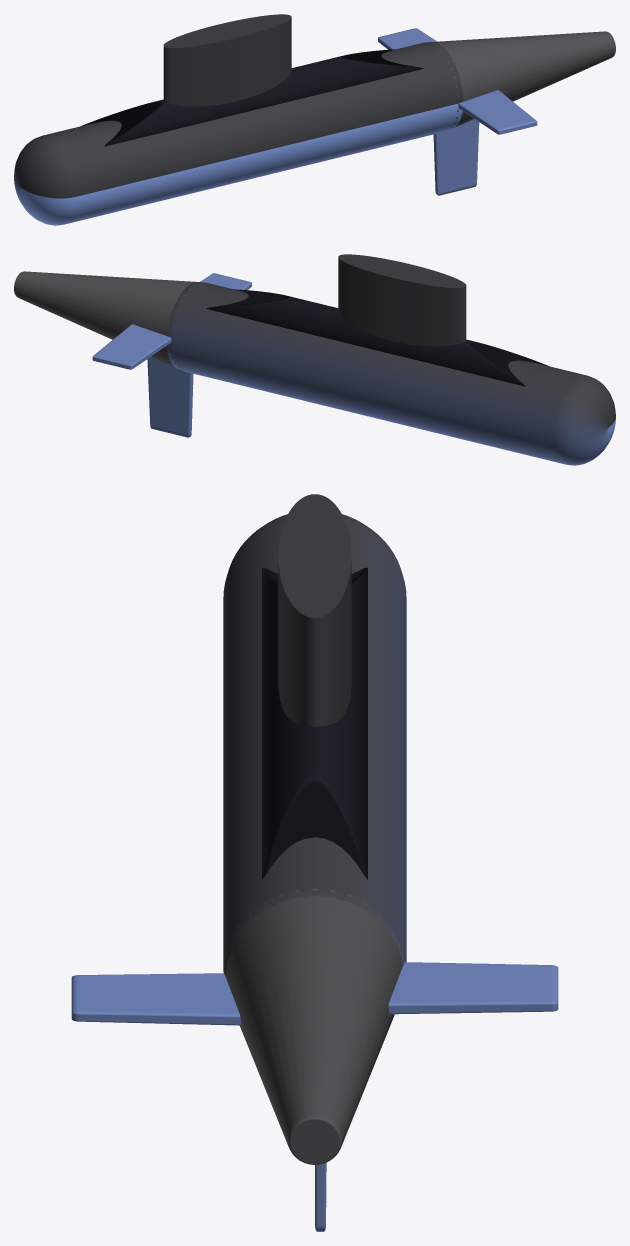
File: Submarine.gltf
3 renders of one model, top to bottom at view 1: azimuth 30°, elevation 25°; view 2: azimuth 150°, elevation 25°; view 3: azimuth 270°, elevation 25°, orthographic. The views are drawn at different scales.
Parts seen in each view (by area): view 1: Cylinder (×2), Cylinder 2, Cylinder 1, Box 1 (×3); view 2: Cylinder (×2), Cylinder 2, Cylinder 1, Box 1 (×3); view 3: Cylinder (×2), Cylinder 1, Box 1 (×2), Cylinder 2.
Boxes of the visible parts, <box> form: Cylinder (×2): <box>14,31,615,225</box>; Cylinder 2: <box>163,14,291,106</box>; Cylinder 1: <box>82,49,423,146</box>; Box 1 (×3): <box>378,28,537,195</box>; Cylinder (×2): <box>14,271,615,465</box>; Cylinder 2: <box>338,254,466,346</box>; Cylinder 1: <box>206,289,547,386</box>; Box 1 (×3): <box>92,273,251,437</box>; Cylinder (×2): <box>223,514,406,1164</box>; Cylinder 1: <box>262,567,367,879</box>; Box 1 (×2): <box>71,962,558,1025</box>; Cylinder 2: <box>278,494,351,726</box>.
Size of the model in its own units: 0.9272 by 0.3262 by 0.332.
5 materials, 1 textured.
